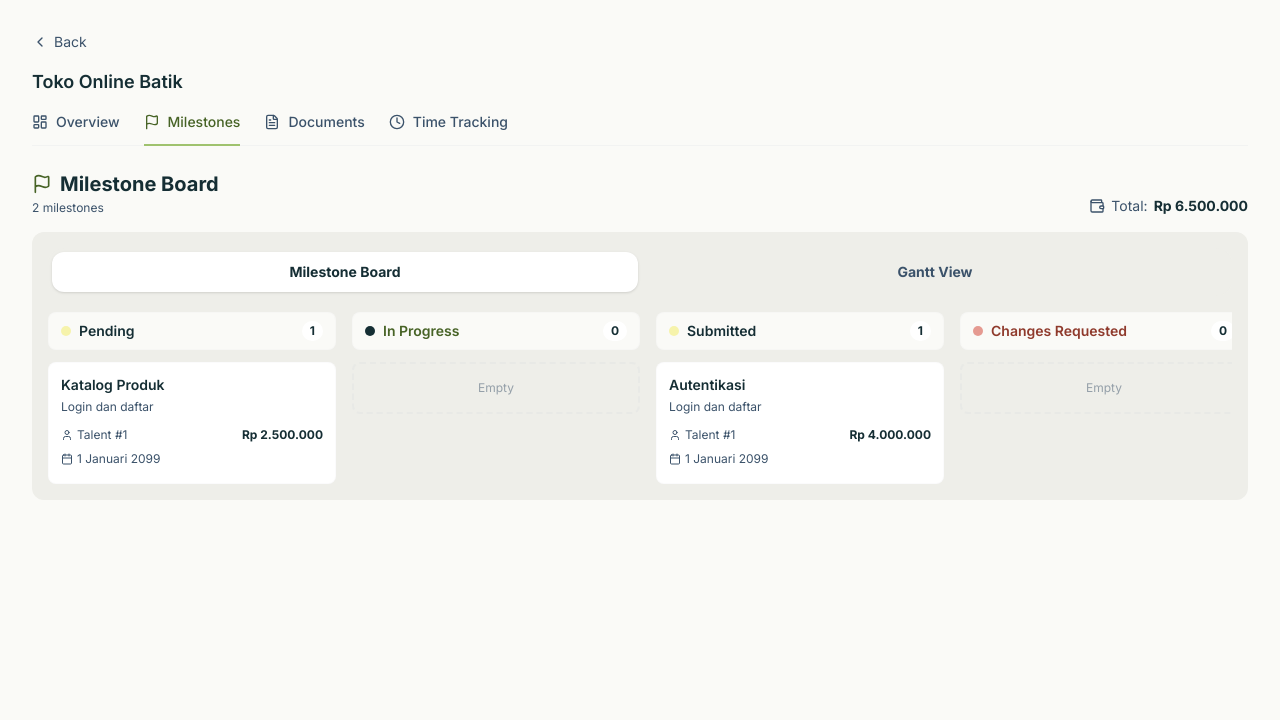
Test: the controls each role is offered on a submitted milestone › offers an owner approve and request revision, and no third verdict
This screenshot has width=1280, height=720.
Click the button "Autentikasi": (707, 384) [669, 375, 931, 467]
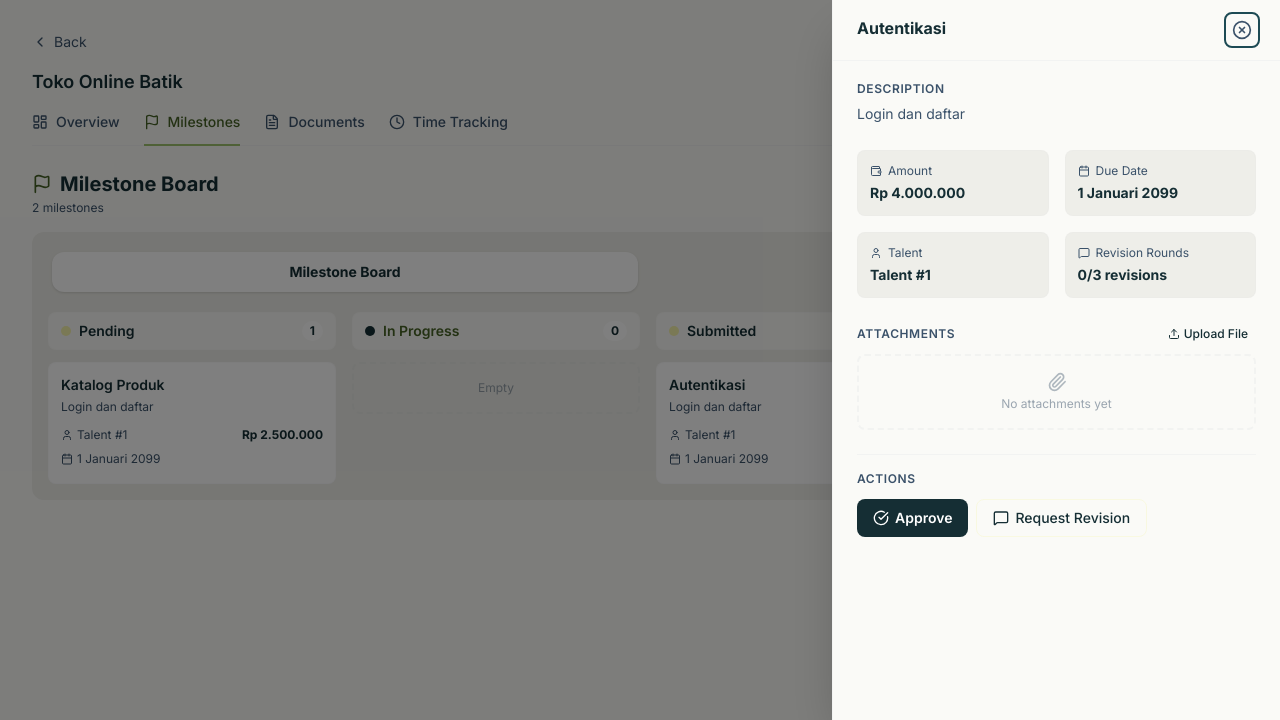
Now the button "Approve" is shown, box [857, 499, 968, 537]
Now the button "Request Revision" is shown, box [976, 499, 1147, 537]
